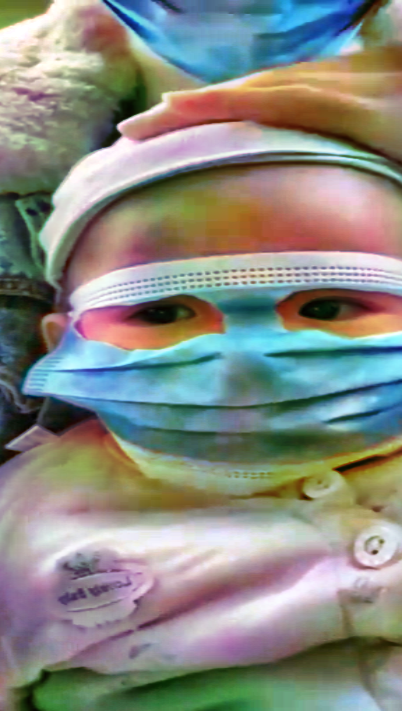mask_weared_incorrect: (27, 134, 402, 475)
